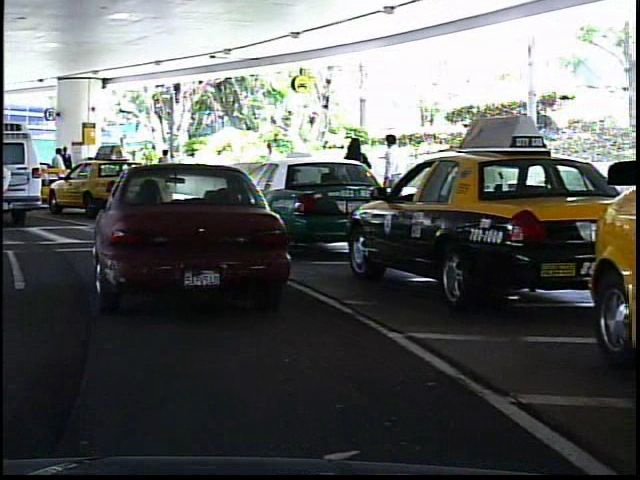person: (334, 130, 370, 231), (377, 128, 409, 229), (256, 135, 285, 209), (149, 144, 175, 197), (46, 147, 65, 198), (57, 144, 73, 196)
